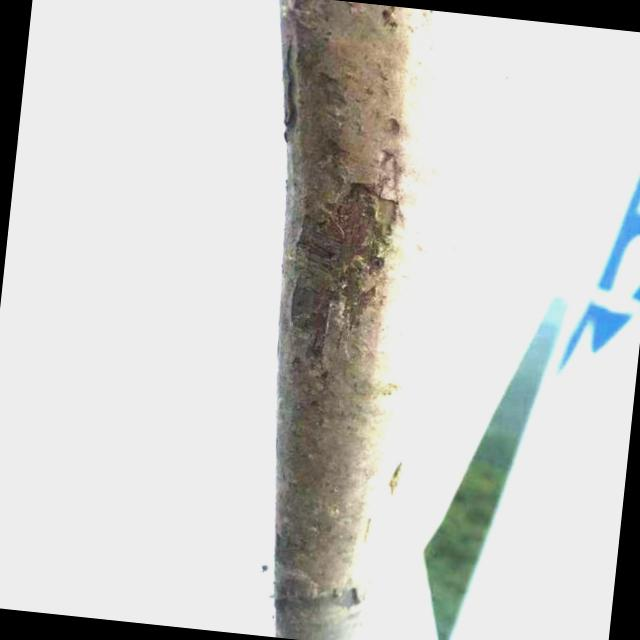corrosion: (233, 0, 432, 614)
